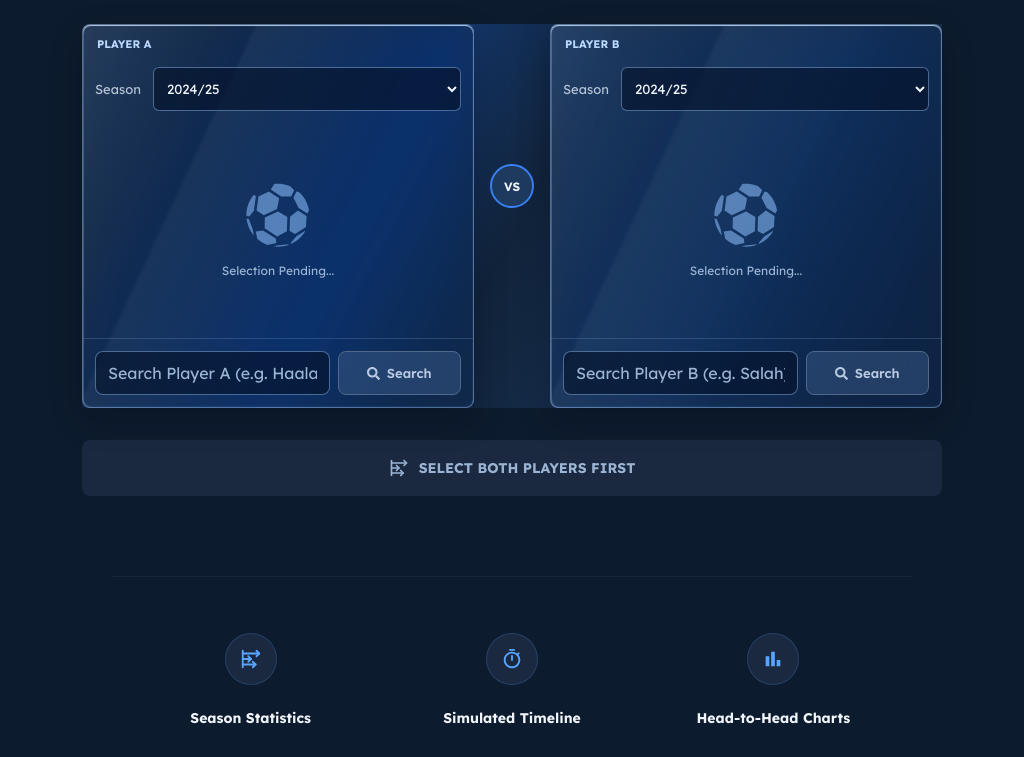
Test case: a late response cannot replace a newer search result
The image size is (1024, 757).
(page scrolled)
Type "Player One" into the field labelled "Player A". click: [212, 373]
box: top-left (95, 351), bottom-right (330, 395)
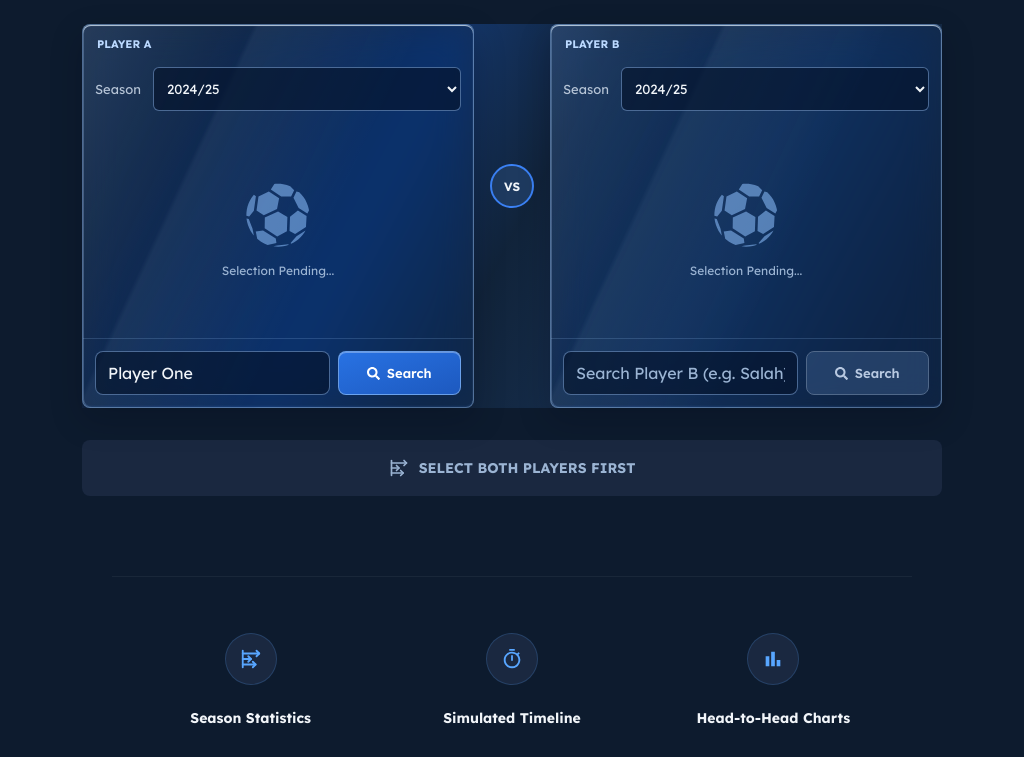
Click the button with aria-label "Search Player A". click: [399, 373]
box: top-left (338, 351), bottom-right (461, 395)
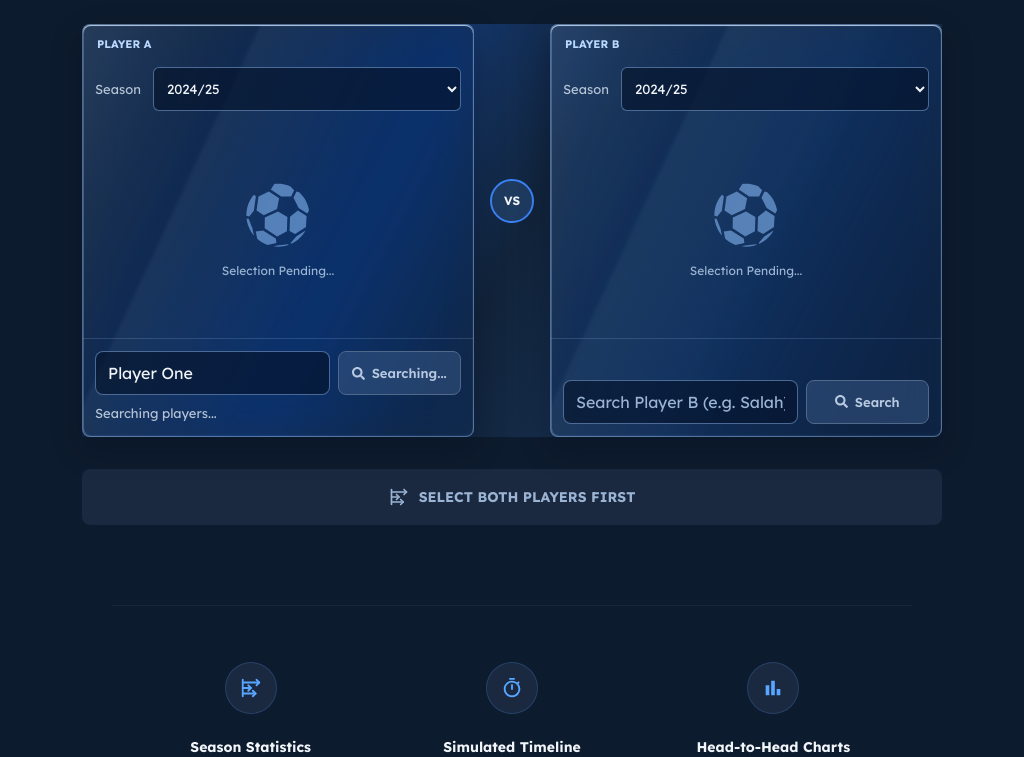
Replace the text in the field labelled "Player A" with "Player Two". click: [212, 373]
box: top-left (95, 351), bottom-right (330, 395)
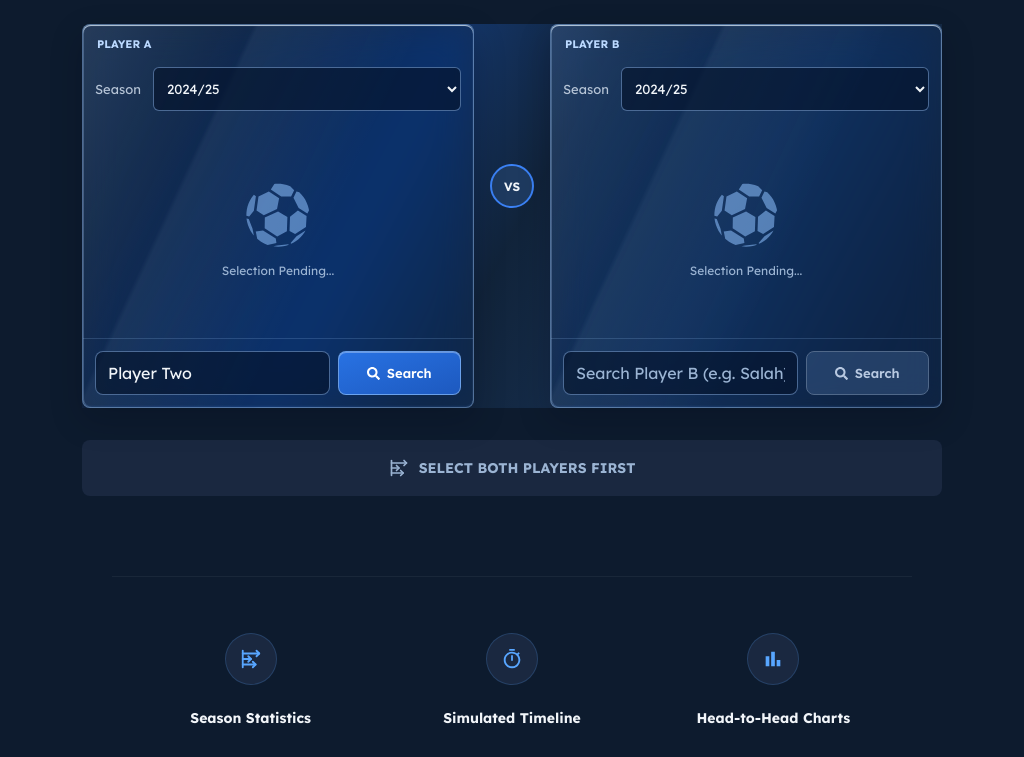
Click the button with aria-label "Search Player A". click: [399, 373]
box: top-left (338, 351), bottom-right (461, 395)
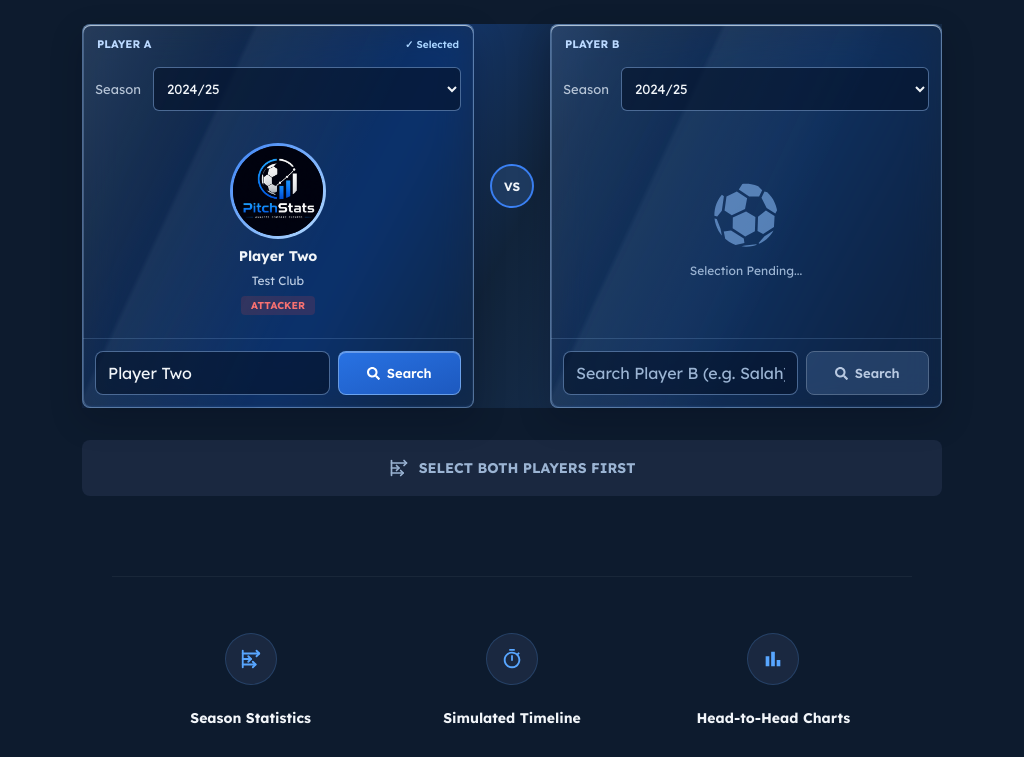
Expected: the heading "Player One" is not shown
Result: the heading "Player Two" is shown at top-left (239, 247), bottom-right (317, 265)
